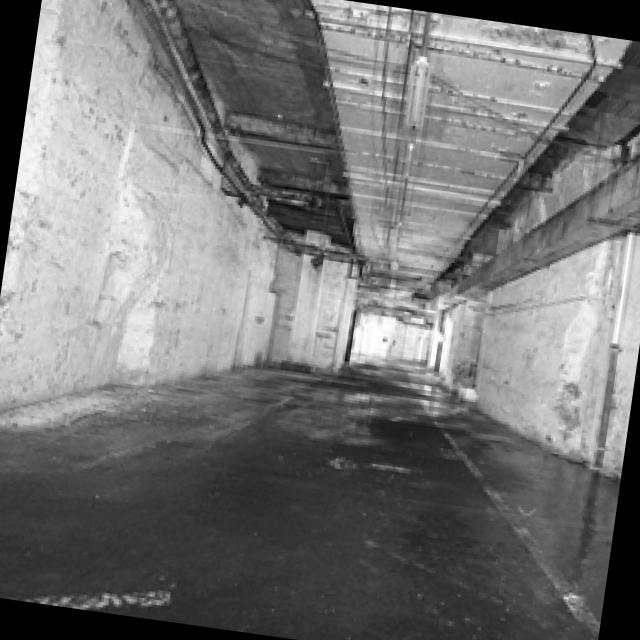carpet floor: (32, 329, 597, 447)
chair: (290, 225, 350, 261), (579, 274, 635, 310), (491, 253, 547, 286), (379, 240, 439, 268), (200, 217, 256, 245), (12, 201, 66, 229), (96, 210, 154, 231)
chair crop: (124, 434, 328, 626), (412, 470, 617, 640)
chair seat: (0, 415, 85, 599)
conference table: (0, 371, 622, 542), (4, 224, 638, 359)
curtain crop: (15, 0, 640, 279)
